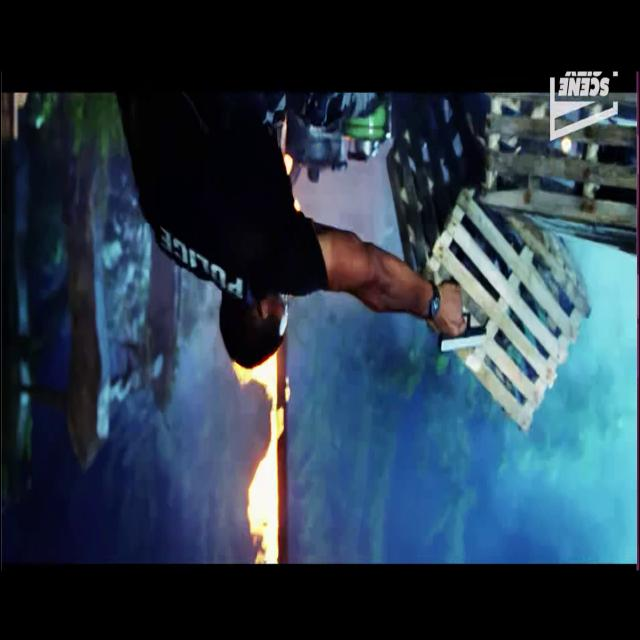weapons: (429, 268, 493, 374)
